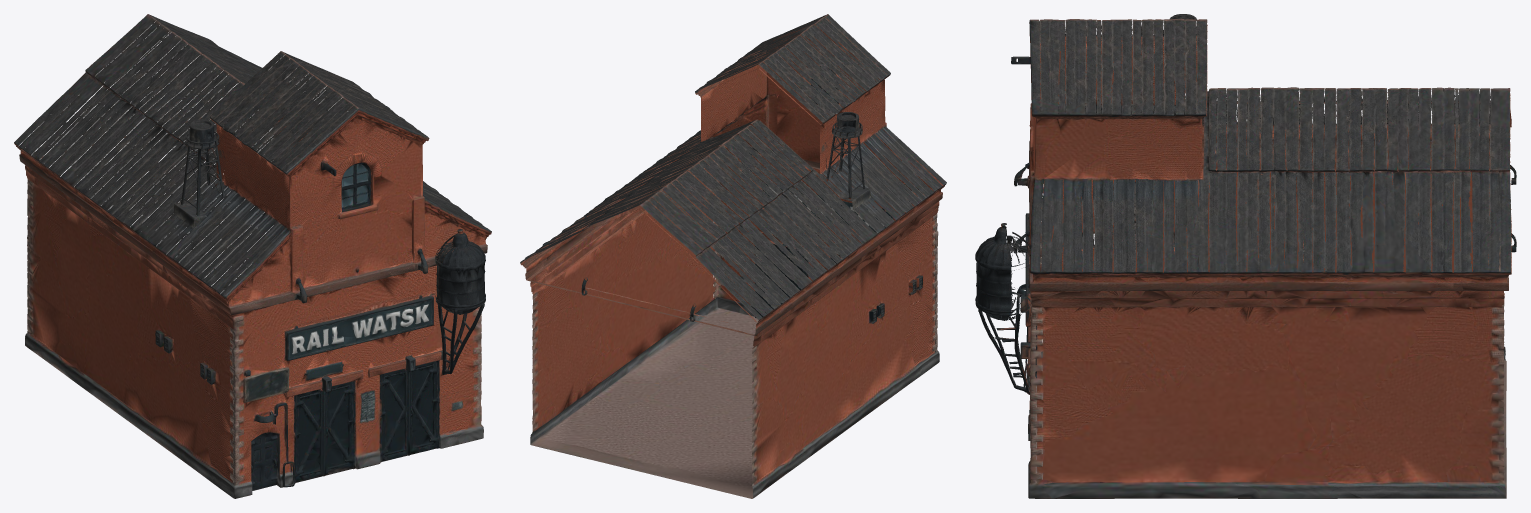
File: rail_block.glb
The picture shows the model from 3 angles, left to right: view 1: azimuth 30°, elevation 25°; view 2: azimuth 150°, elevation 25°; view 3: azimuth 270°, elevation 25°; orthographic projection. The views are drawn at different scales.
Bounding box in the file's own units: 1.24 × 1.59 × 1.9.
Materials: 1 (1 with a texture image).
